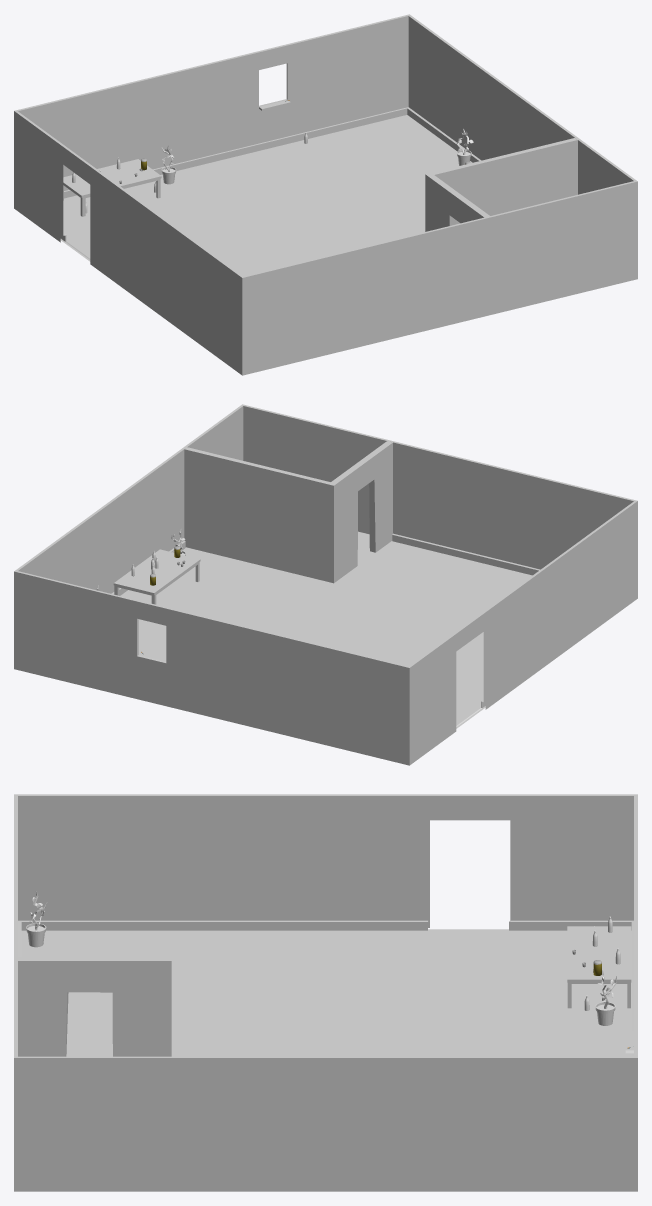
The picture shows the model from 3 angles, top to bottom: view 1: azimuth 30°, elevation 25°; view 2: azimuth 150°, elevation 25°; view 3: azimuth 270°, elevation 25°; orthographic projection. The views are drawn at different scales.
Parts seen in each view (by area): view 1: Plane, Table.001; view 2: Plane, Table; view 3: Plane, Table.001, BlumenTopf.003, BlumenTopf.001.
Part boxes in pixels (x1=…): Plane: x1=14, y1=14, x2=637, y2=375; Table.001: x1=63, y1=159, x2=161, y2=216; Plane: x1=14, y1=404, x2=637, y2=765; Table: x1=113, y1=549, x2=200, y2=604; Plane: x1=14, y1=794, x2=637, y2=1191; Table.001: x1=567, y1=926, x2=631, y2=1008; BlumenTopf.003: x1=595, y1=970, x2=616, y2=1025; BlumenTopf.001: x1=26, y1=891, x2=47, y2=947.
Bounding box in the file's own units: 1297 × 307 × 1297.
